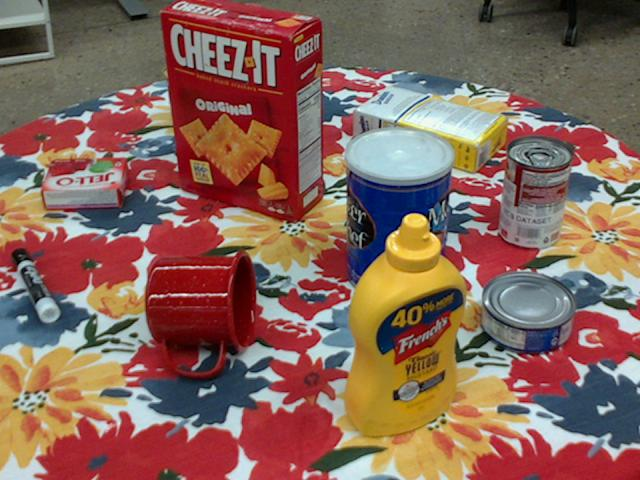cracker_box: (161, 0, 325, 217)
gelatin_box: (41, 157, 129, 210)
large_marker: (10, 247, 58, 322)
master_chef_can: (344, 127, 453, 303)
mug: (144, 250, 254, 377)
mustard_bottle: (343, 213, 464, 437)
potted_meat_can: (164, 55, 247, 138)
sugar_box: (353, 84, 510, 174)
tomato_soup_can: (499, 135, 573, 249)
tuna_fish_can: (479, 272, 575, 355)
